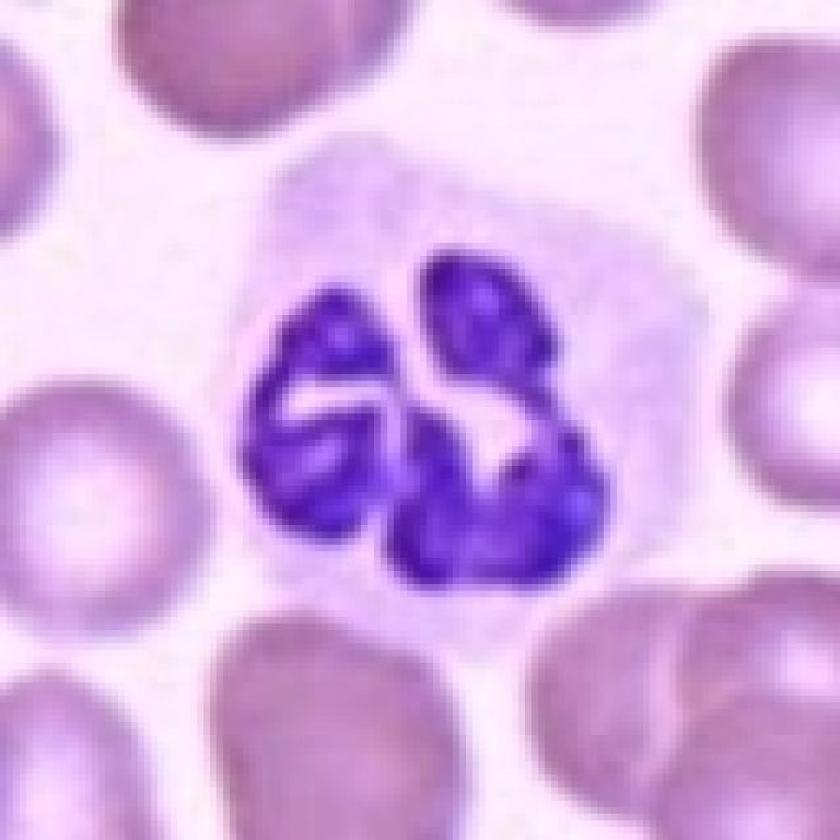neutrophil: (207, 138, 712, 661)
